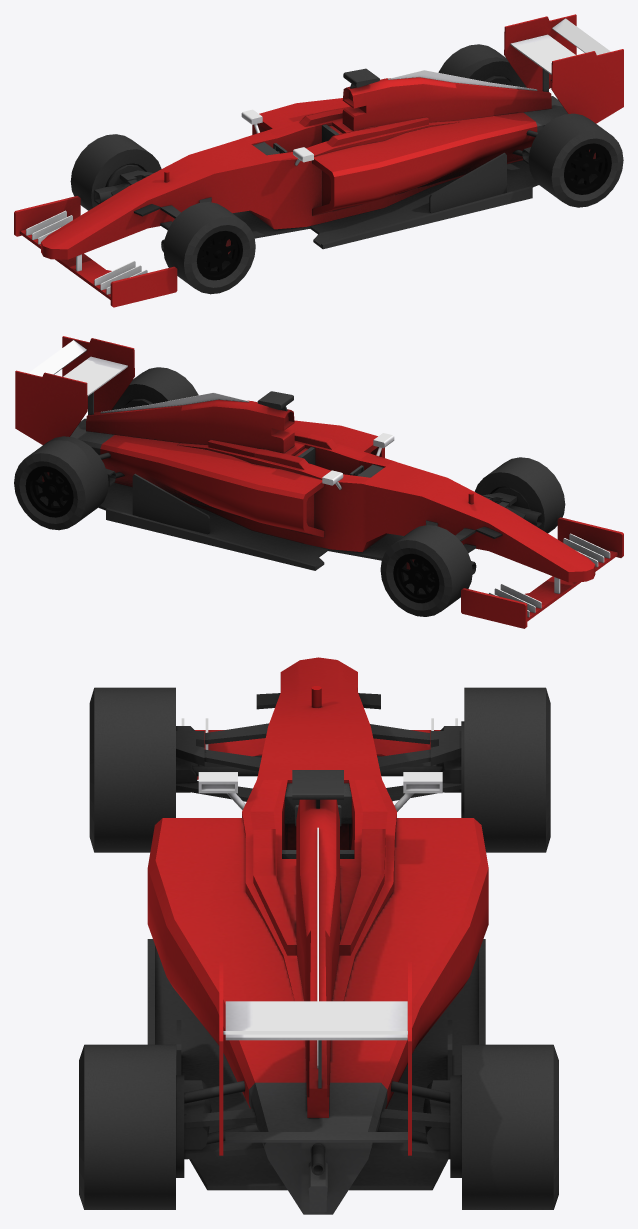
3 renders of one model, top to bottom at view 1: azimuth 30°, elevation 25°; view 2: azimuth 150°, elevation 25°; view 3: azimuth 270°, elevation 25°, orthographic. The views are drawn at different scales.
Visible parts, largest first — view 1: Object004_Object004_mtl_0, Object003_Object003_mtl_0; view 2: Object004_Object004_mtl_0, Object003_Object003_mtl_0; view 3: Object004_Object004_mtl_0, Object003_Object003_mtl_0.
Part boxes in pixels (x1,y1,x2,y2): Object004_Object004_mtl_0: (14, 14, 623, 307); Object003_Object003_mtl_0: (70, 44, 623, 294); Object004_Object004_mtl_0: (15, 336, 623, 628); Object003_Object003_mtl_0: (14, 367, 565, 616); Object004_Object004_mtl_0: (147, 657, 488, 1214); Object003_Object003_mtl_0: (79, 687, 558, 1209).
Size of the model in its own units: 451 by 101 by 169.
2 materials, 2 textured.
